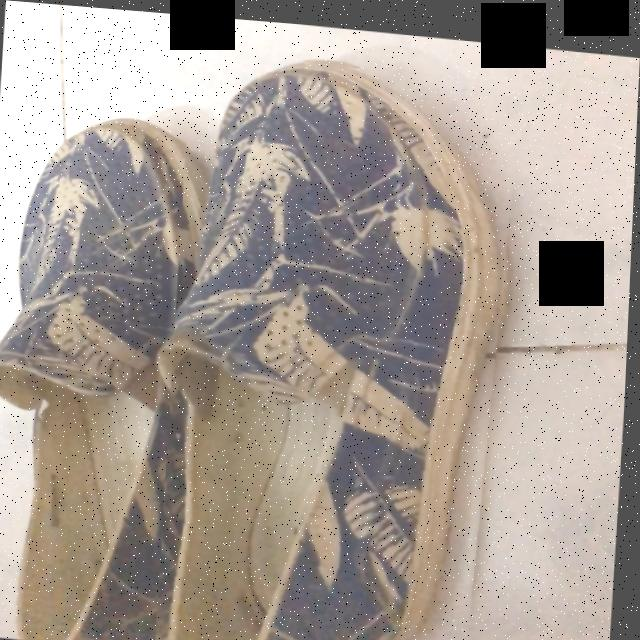shoe: (176, 58, 506, 640)
